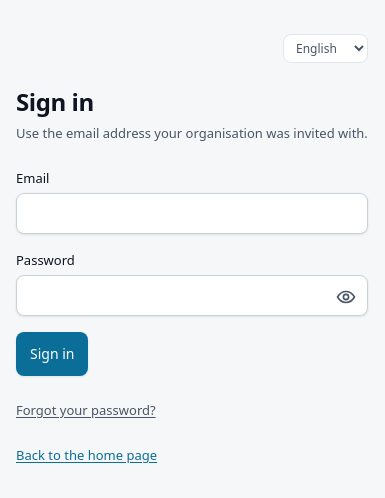
Scenario: signing in › distinguishes being throttled from being wrong
Type "ada@acme.test" into the field labelled "Email". click: (192, 213)
box: [16,193,368,234]
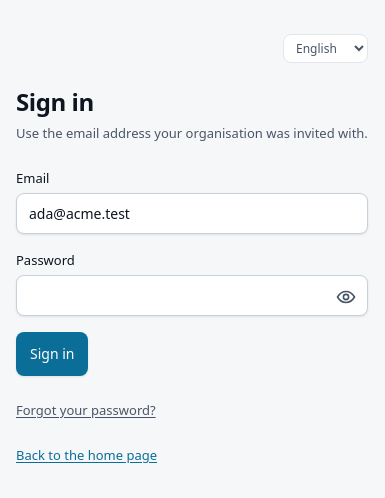
Type "correct horse battery" into the password field labelled "Password". click: (192, 295)
box: [16,275,368,316]
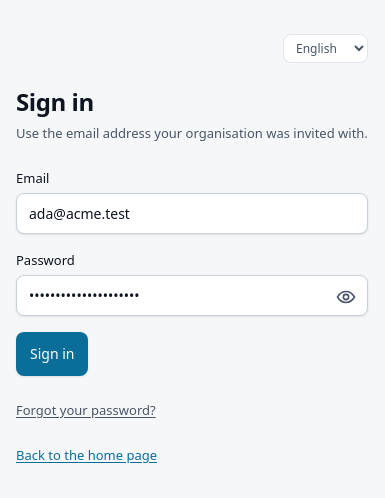
Click the button "Sign in". click: (52, 354)
box: [16,332,88,376]
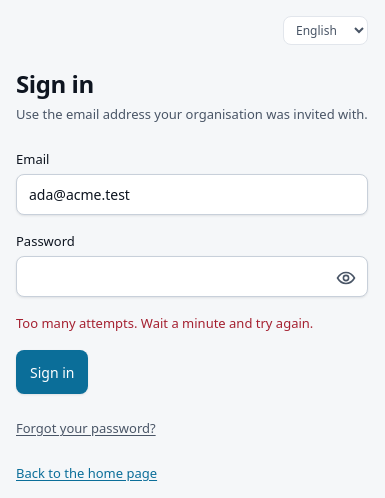
expect the message shows "Too many attempts": met, box [16,314,313,332]
